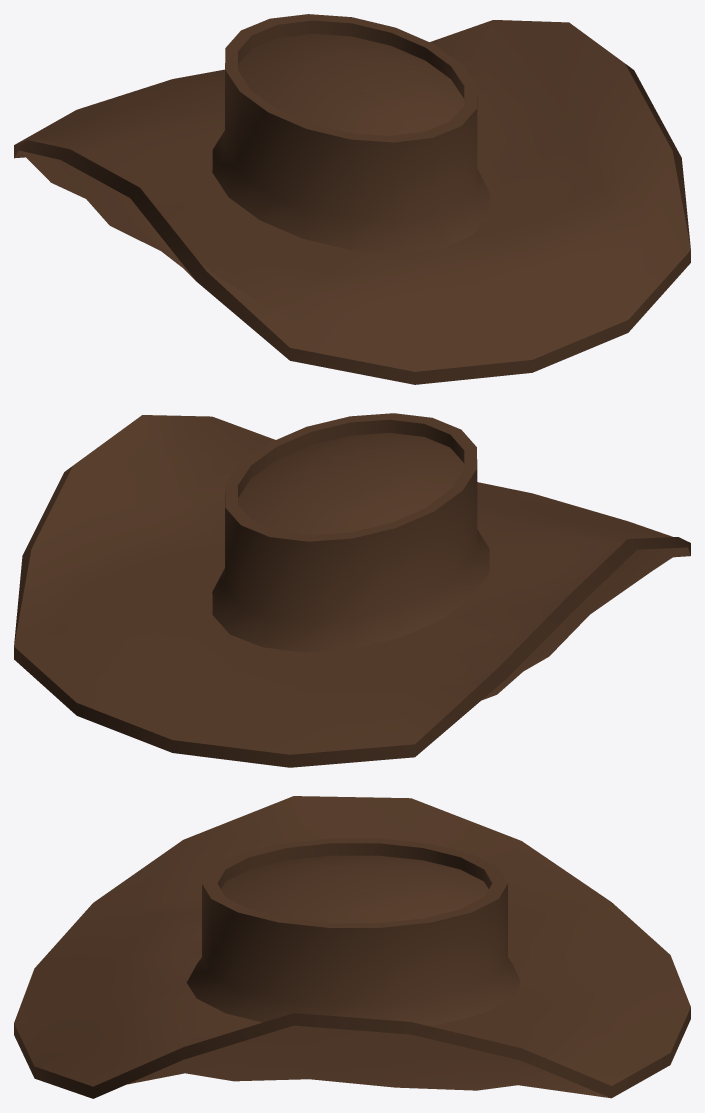
File: MainHat.fbx
3 views of the same model, one above another, from view 1: azimuth 30°, elevation 25°; view 2: azimuth 150°, elevation 25°; view 3: azimuth 270°, elevation 25° (orthographic). The views are drawn at different scales.
Visible parts, largest first — view 1: MainHat; view 2: MainHat; view 3: MainHat.
Boxes of the visible parts, x1,y1,x2,y2 form: MainHat: [14, 14, 690, 384]; MainHat: [14, 413, 690, 767]; MainHat: [14, 796, 690, 1098].
Size of what is drawn, in the model's own units: 41.48 by 12.87 by 50.
